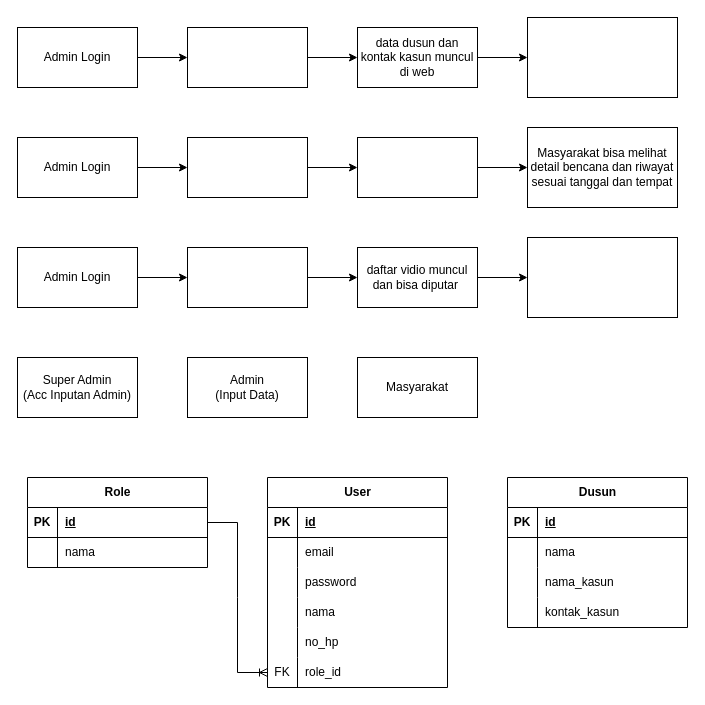
Image size: 705x705. Some labels were removed from this diagram. Each missing label, with the centre of its shape:
"data bencana Muncul di Map" belongs at point 417,167.
"Input Dusun" belongs at point 247,57.
"Input Laporan Bencana" belongs at point 247,167.
"Input Link Youtube terkait penanganan bencana" belongs at point 247,277.
"Masyarakat bisa melihat daftar dusun beserta kontak kasun" belongs at point 602,57.
"Masyarakat bisa melihat video cara penanganan bencana" belongs at point 602,277.
